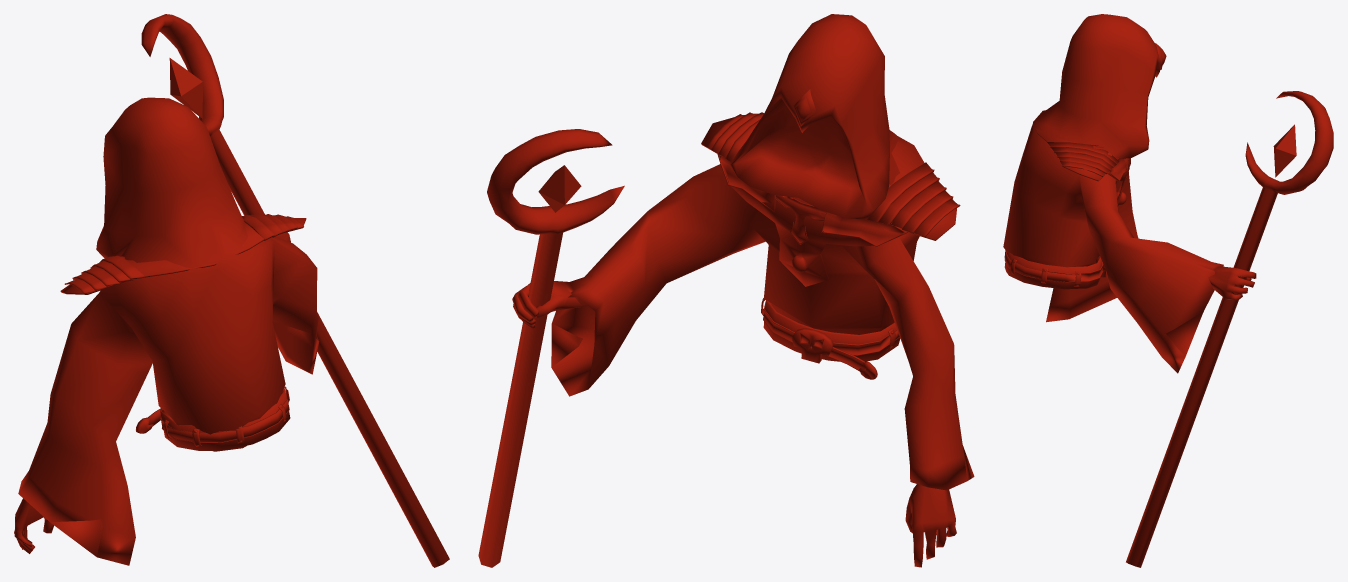
File: top_000061.obj
3 renders of one model, left to right at view 1: azimuth 30°, elevation 25°; view 2: azimuth 150°, elevation 25°; view 3: azimuth 270°, elevation 25°, orthographic. The views are drawn at different scales.
Parts seen in each view (by area): view 1: LowPoly_Warlock.000_Plane.005; view 2: LowPoly_Warlock.000_Plane.005; view 3: LowPoly_Warlock.000_Plane.005.
Part boxes in pixels (left/top/right/bottom): LowPoly_Warlock.000_Plane.005: left=14, top=14, right=449, bottom=567; LowPoly_Warlock.000_Plane.005: left=478, top=14, right=974, bottom=567; LowPoly_Warlock.000_Plane.005: left=1003, top=14, right=1333, bottom=567.
Size of the model in its own units: 1.5 by 1.83 by 1.25.
